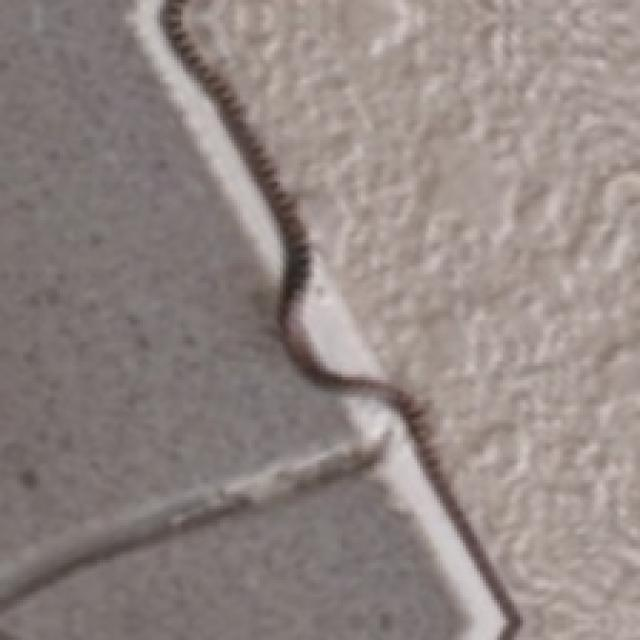paradise tree snake: (0, 0, 349, 557), (0, 466, 460, 637)
